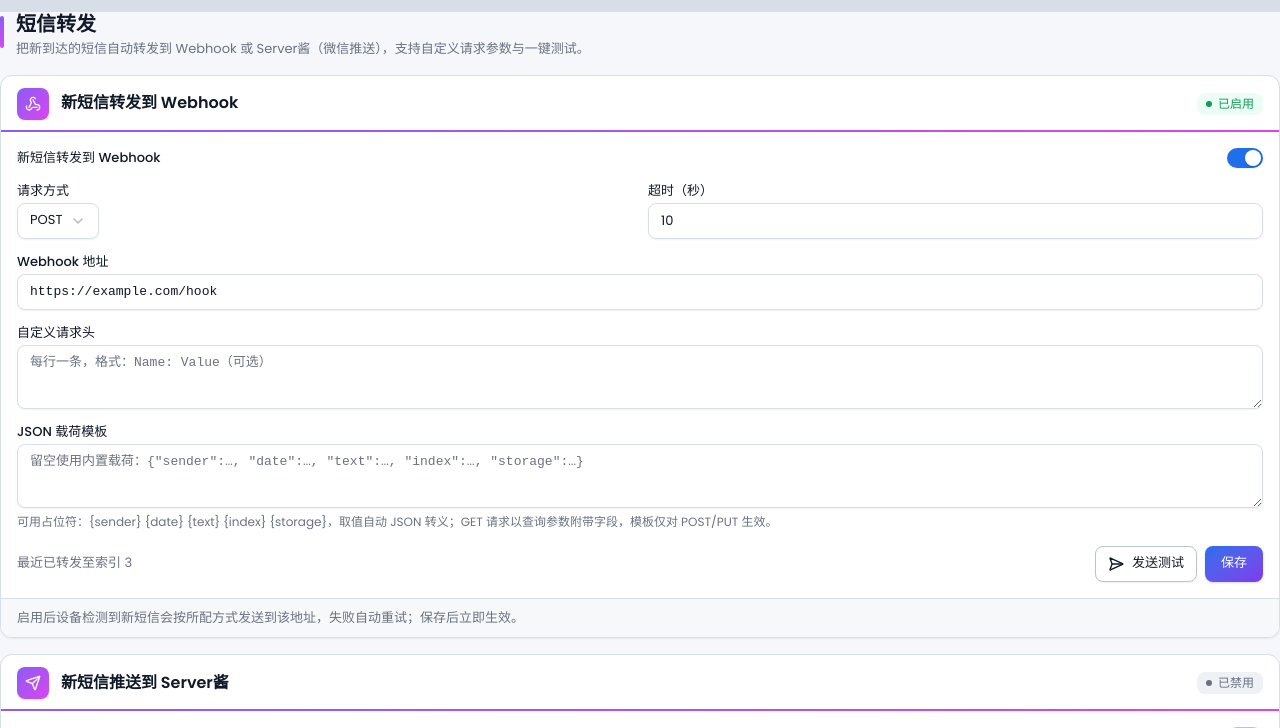
Scenario: SmsForwardPage 组件 › Webhook 卡:测试推送使用已保存配置,表单脏态时禁用
Check: the text "最近已转发至索引 3" is shown, box 17,554 -> 132,573
Click the button "发送测试" at (1146,564), box 1095,546 -> 1197,582
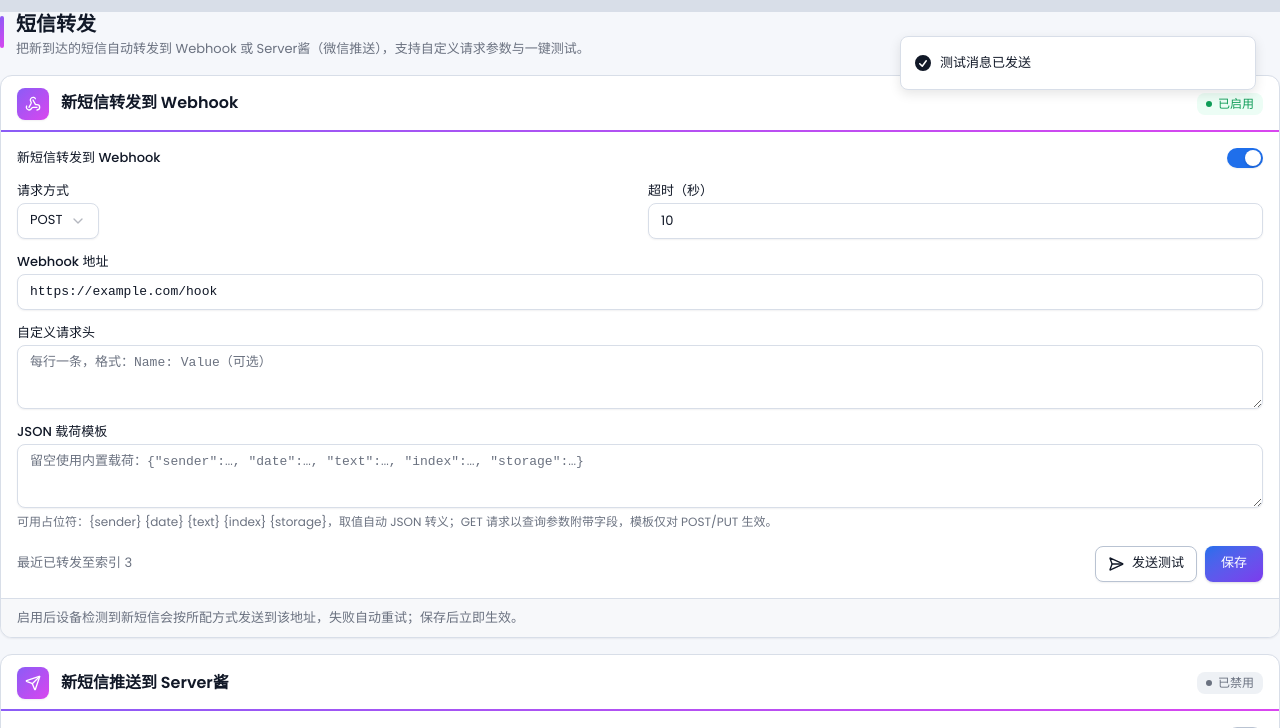
Replace the text in the field with placeholder "https:// 开头的回调地址" with "https://example.com/other" at (640,292), box 17,274 -> 1263,310
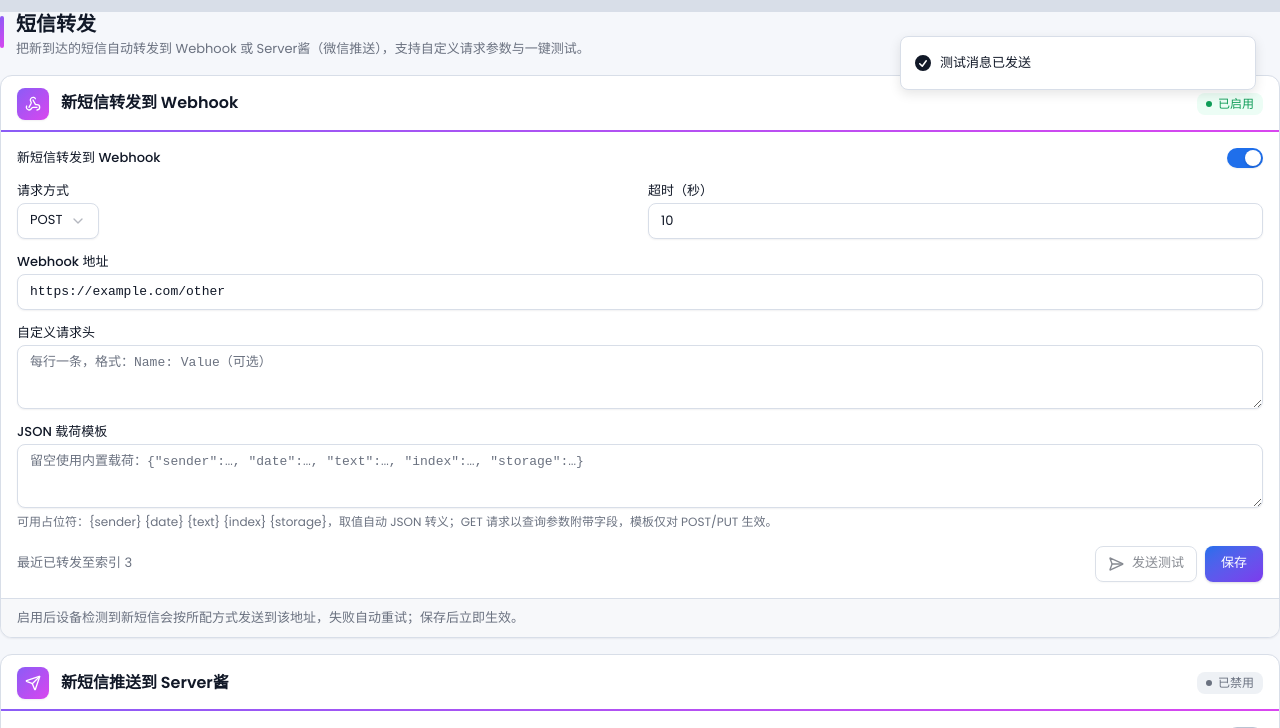
Check: the button "发送测试" is disabled, box 1095,546 -> 1197,582
